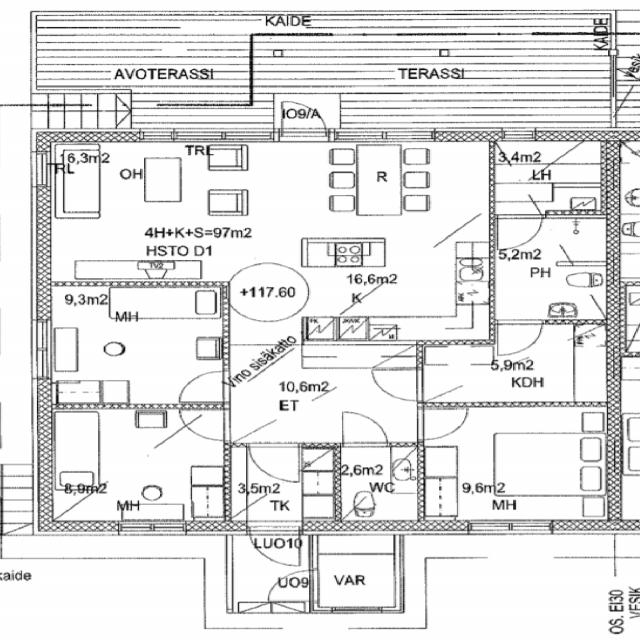door: (249, 520, 299, 569), (281, 96, 326, 142), (248, 442, 299, 482), (496, 214, 542, 250), (498, 319, 542, 356), (265, 570, 318, 600), (180, 371, 230, 402), (374, 370, 424, 401), (418, 409, 468, 440), (181, 410, 230, 441), (343, 412, 386, 447)
